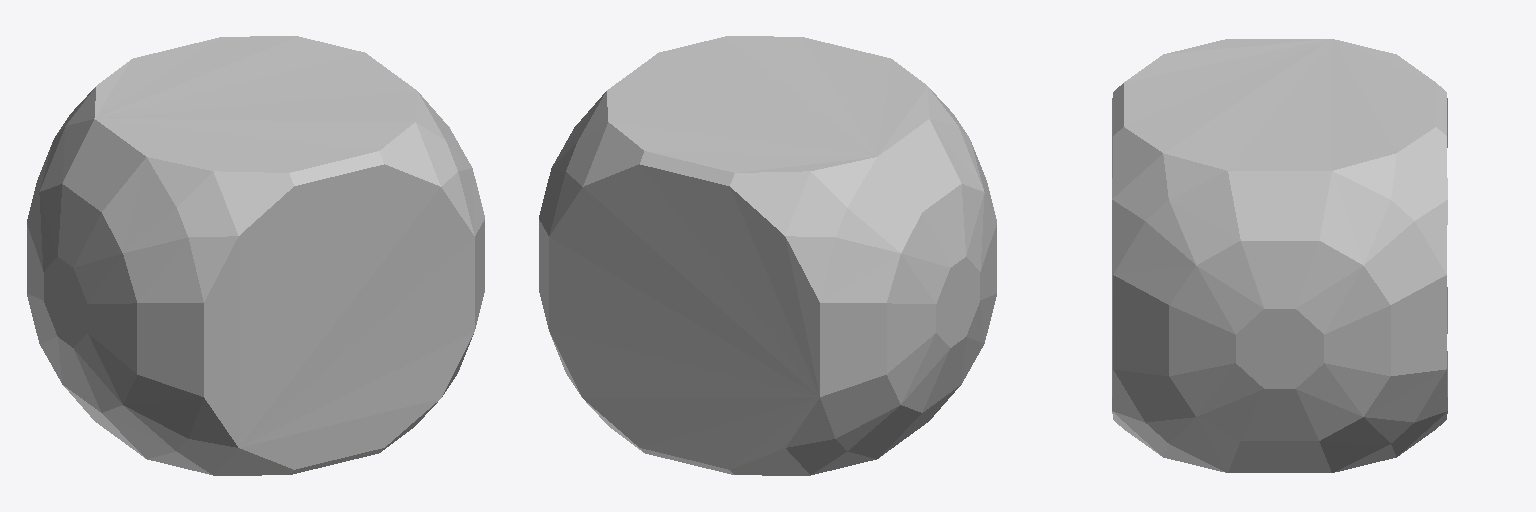
The model's file is Alniyat_Node_1_Collider.obj.
The picture shows the model from 3 angles: view 1: azimuth 30°, elevation 25°; view 2: azimuth 150°, elevation 25°; view 3: azimuth 270°, elevation 25°; orthographic projection.
Visible parts, largest first — view 1: Alniyat_Node_1_Collider; view 2: Alniyat_Node_1_Collider; view 3: Alniyat_Node_1_Collider.
Boxes of the visible parts, box(x1,y1,x2,y2) form: Alniyat_Node_1_Collider: box(27, 36, 484, 475); Alniyat_Node_1_Collider: box(539, 36, 996, 475); Alniyat_Node_1_Collider: box(1112, 39, 1447, 472).
Bounding box in the file's own units: 1.29 × 0.986 × 0.986.